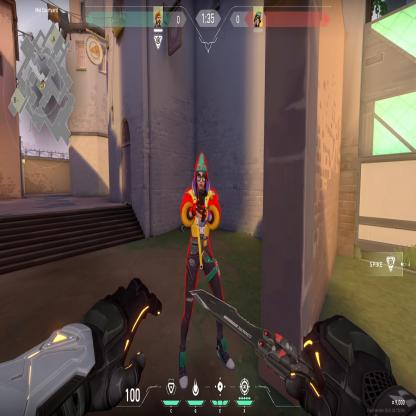enemy: (179, 150, 225, 296)
